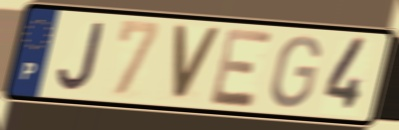4: (322, 34, 368, 118)
7: (113, 19, 165, 102)
E: (207, 26, 277, 110)
G: (267, 34, 323, 111)
J: (55, 20, 107, 93)
V: (170, 22, 223, 105)
